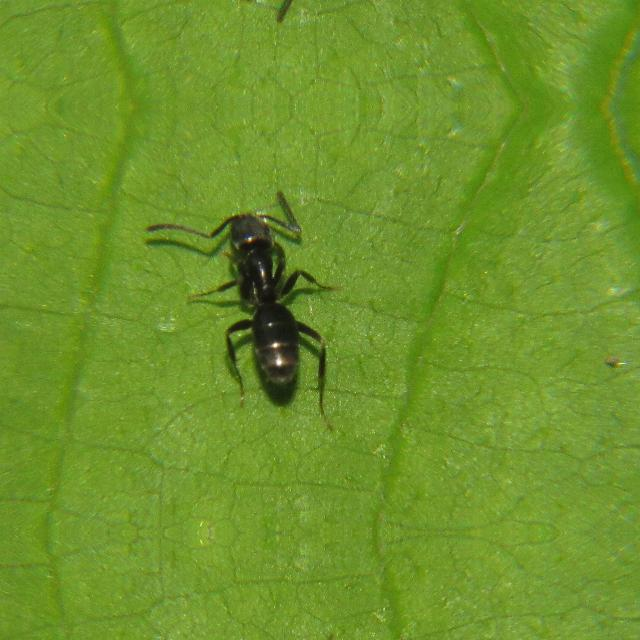Tapinoma: (186, 178, 350, 398)
